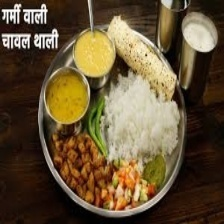roti: (111, 17, 180, 98)
